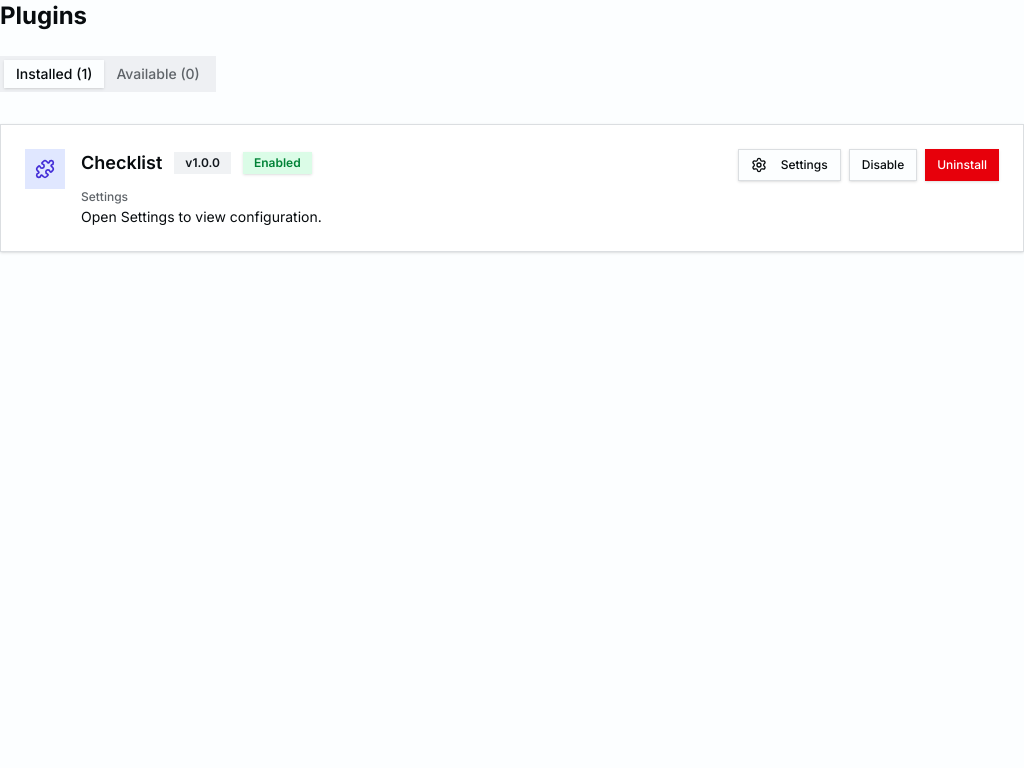
Test: PluginsPage settings › renders when the plugin list omits settings (null)
This screenshot has width=1024, height=768.
Expected: the heading "Plugins" is shown, [0,1,87,30]
Expected: the text "Open Settings to view configuration." is shown, [81,207,322,227]
Click the button "Settings" at (789, 165), box [738,149,841,181]
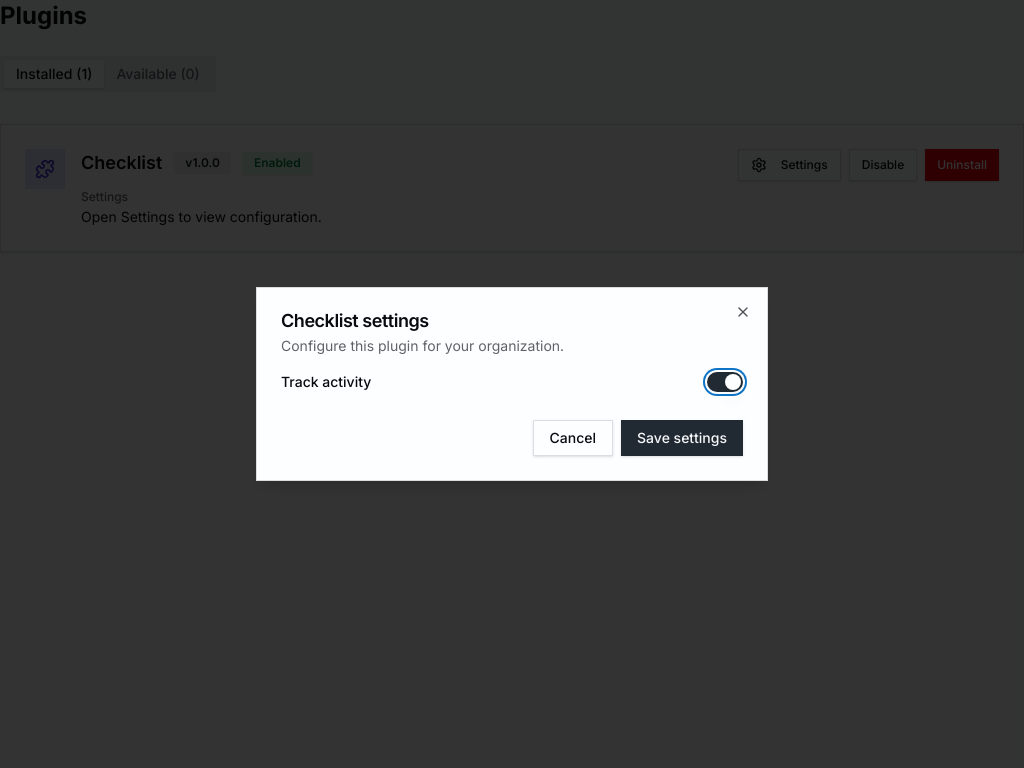
Now the switch named "Track activity" is checked, box [707,372,743,392]
